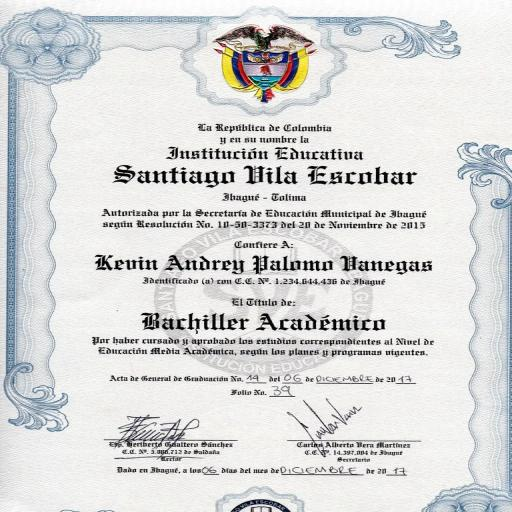bachillerato: (117, 305, 415, 338)
diploma: (0, 0, 511, 511)
escudo: (197, 24, 330, 111)
firma: (95, 402, 253, 471)
institucion: (97, 139, 435, 195)
nombre: (80, 246, 453, 288)
